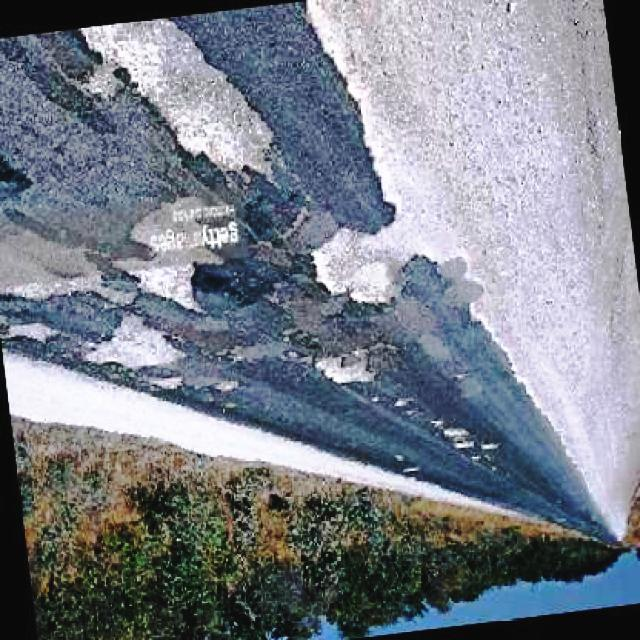pothole: (77, 17, 277, 180), (122, 203, 229, 314), (305, 222, 420, 309), (80, 309, 188, 377), (5, 269, 117, 308), (312, 346, 380, 386), (0, 322, 71, 346), (151, 371, 192, 391)
